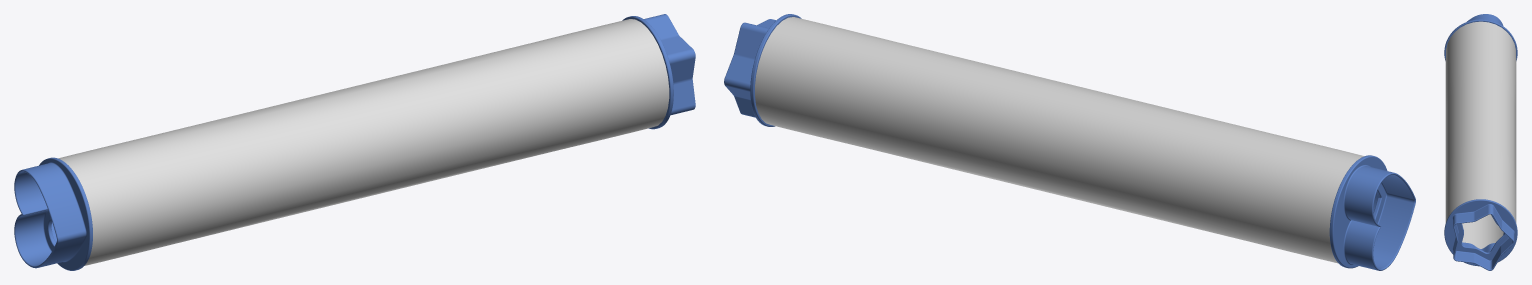
Rendered from rolling pin.glb.
3 renders of one model, left to right at view 1: azimuth 30°, elevation 25°; view 2: azimuth 150°, elevation 25°; view 3: azimuth 270°, elevation 25°, orthographic. The views are drawn at different scales.
Visible parts, largest first — view 1: NONE, Fillet7, Body-Move/Copy1; view 2: NONE, Fillet7, Body-Move/Copy1; view 3: NONE, Body-Move/Copy1, Fillet7.
Part boxes in pixels (box(x1,y1,x2,y2)): NONE: box(58, 19, 669, 265); Fillet7: box(14, 157, 92, 270); Body-Move/Copy1: box(622, 14, 695, 129); NONE: box(755, 17, 1364, 263); Fillet7: box(1329, 155, 1415, 270); Body-Move/Copy1: box(724, 14, 801, 126); NONE: box(1445, 21, 1516, 248); Body-Move/Copy1: box(1444, 199, 1517, 270); Fillet7: box(1444, 14, 1517, 60).
Bounding box in the file's own units: 0.334 × 0.052 × 0.052.
